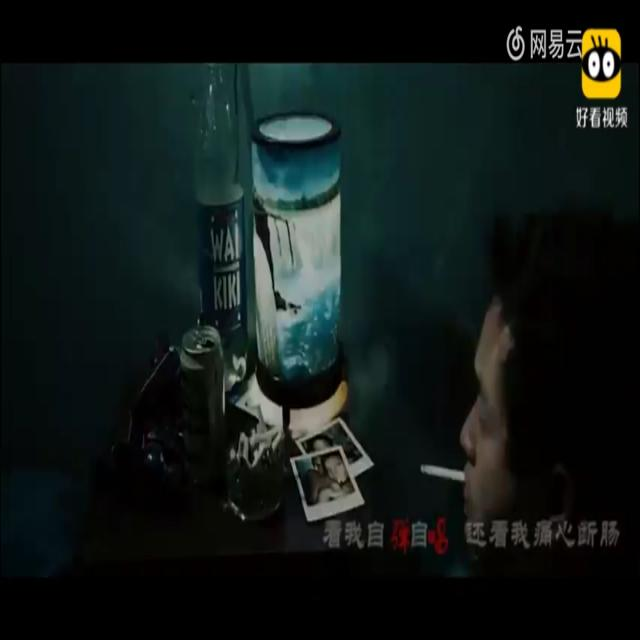smoke: (420, 459, 468, 490)
